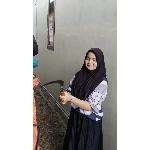Celurit: (38, 80, 72, 102)
